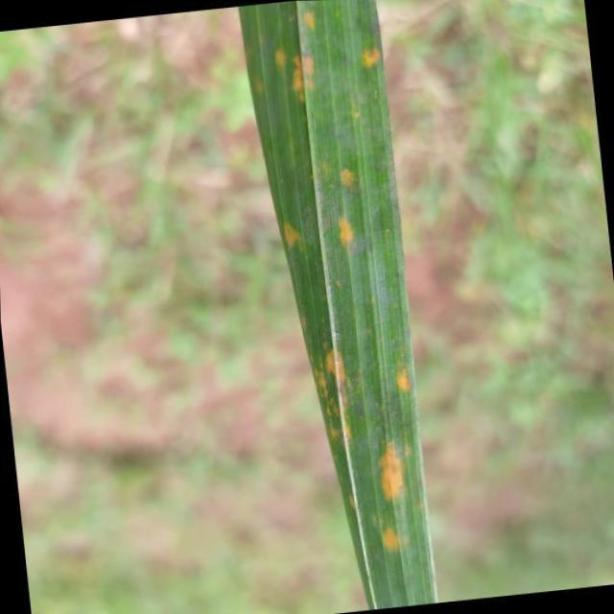Kalium: (238, 3, 439, 614)
